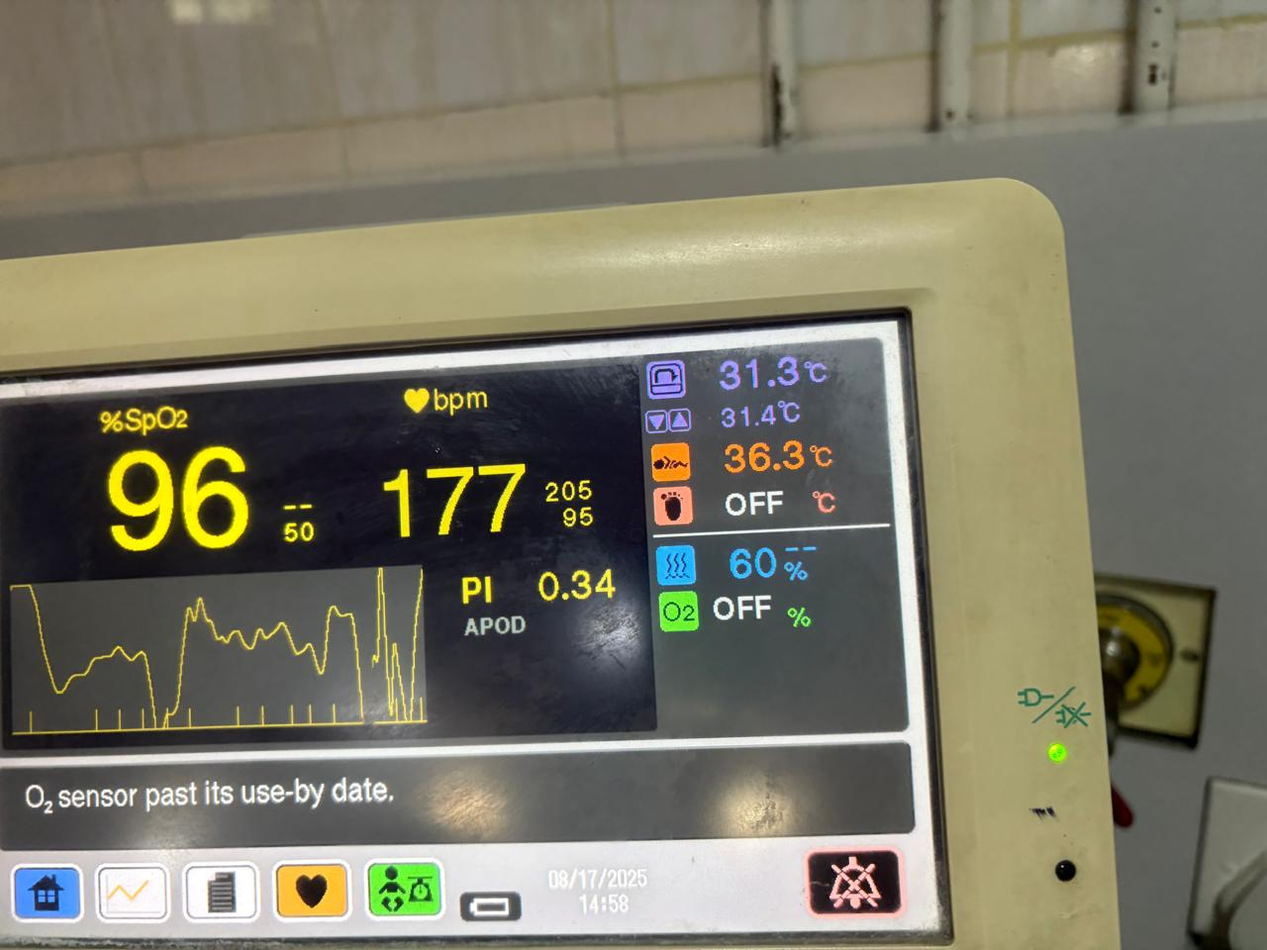air_temp_value: (698, 344, 808, 403)
heart_rate_value: (370, 453, 538, 544)
humidity_value: (718, 539, 781, 584)
skin_temp_value: (704, 438, 812, 482)
spo2_value: (81, 438, 262, 557)
